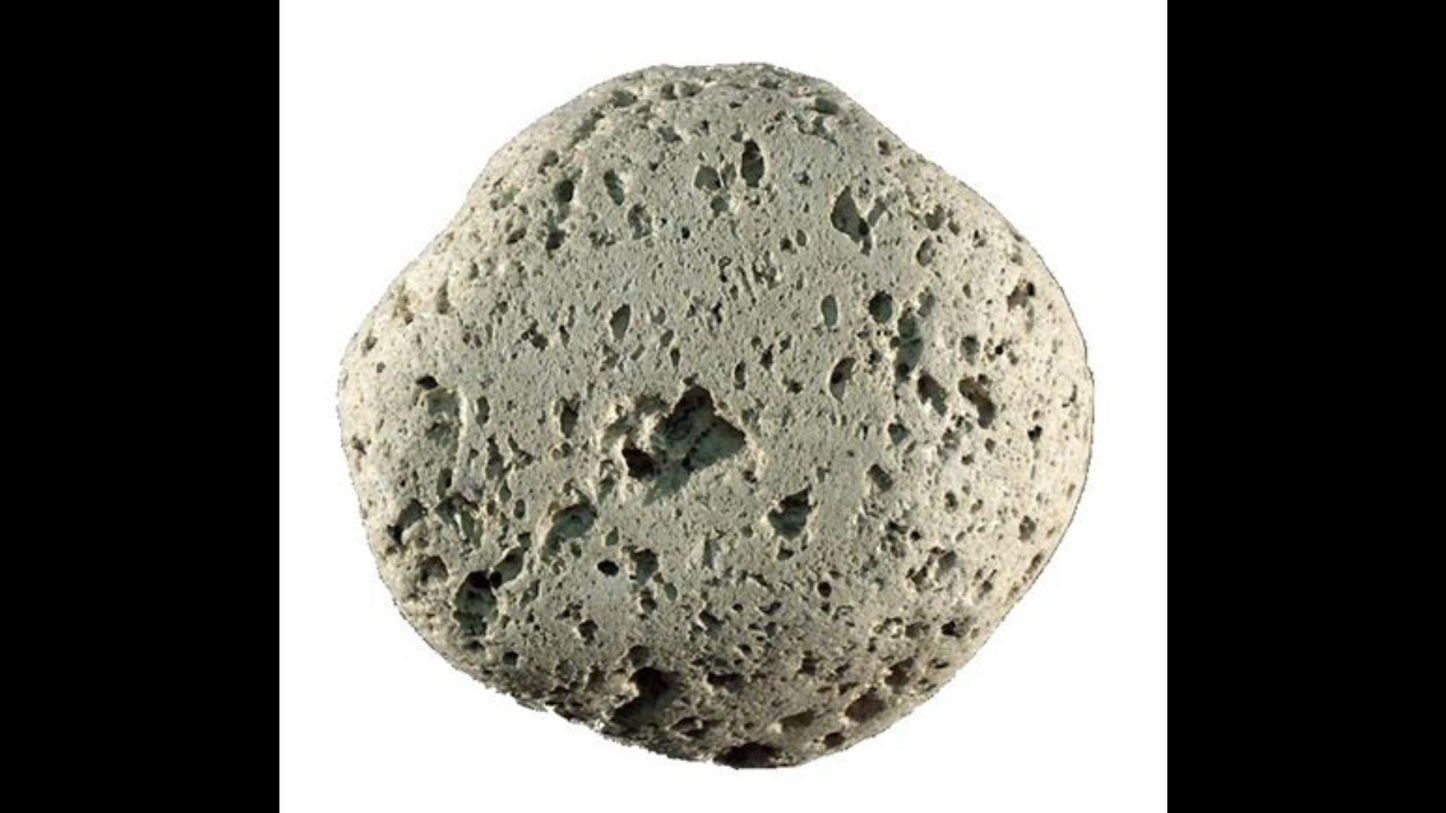rock: (342, 64, 1088, 762)
